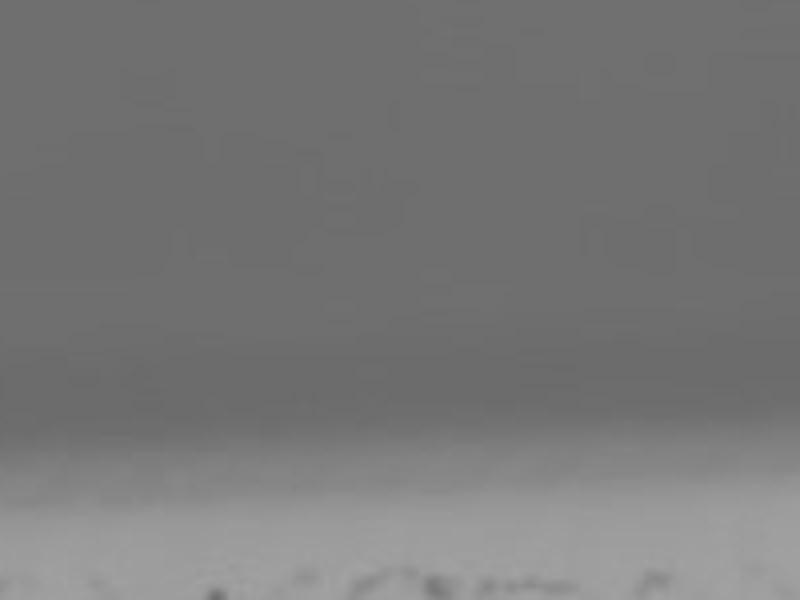defect: (347, 573, 386, 600), (419, 577, 458, 600), (284, 568, 322, 591), (536, 582, 584, 597), (642, 562, 671, 585), (470, 576, 497, 600), (204, 580, 227, 600), (398, 561, 419, 580), (502, 576, 520, 597), (519, 569, 540, 587), (632, 583, 653, 600)
